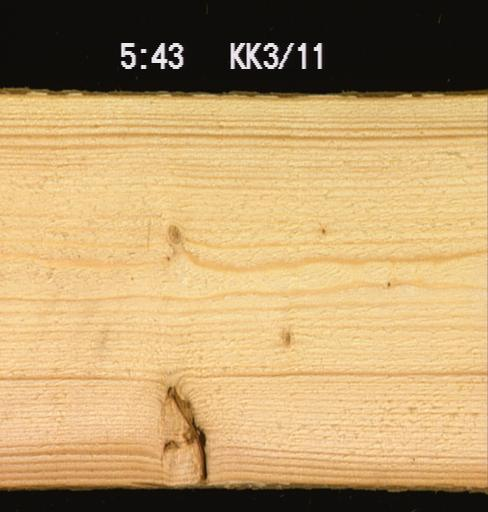edge_knot: (156, 381, 208, 481)
small_knot: (281, 328, 296, 350), (319, 224, 327, 236), (386, 279, 390, 289)
sound_knot: (166, 221, 182, 247)
